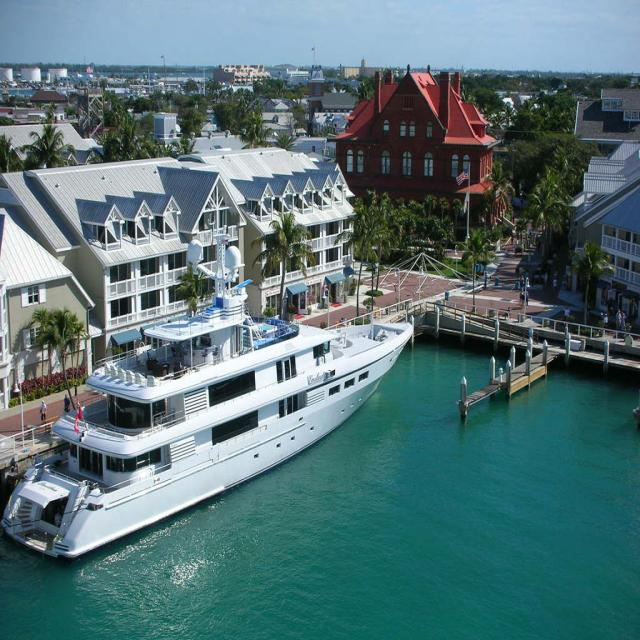Boat: (18, 258, 415, 549)
